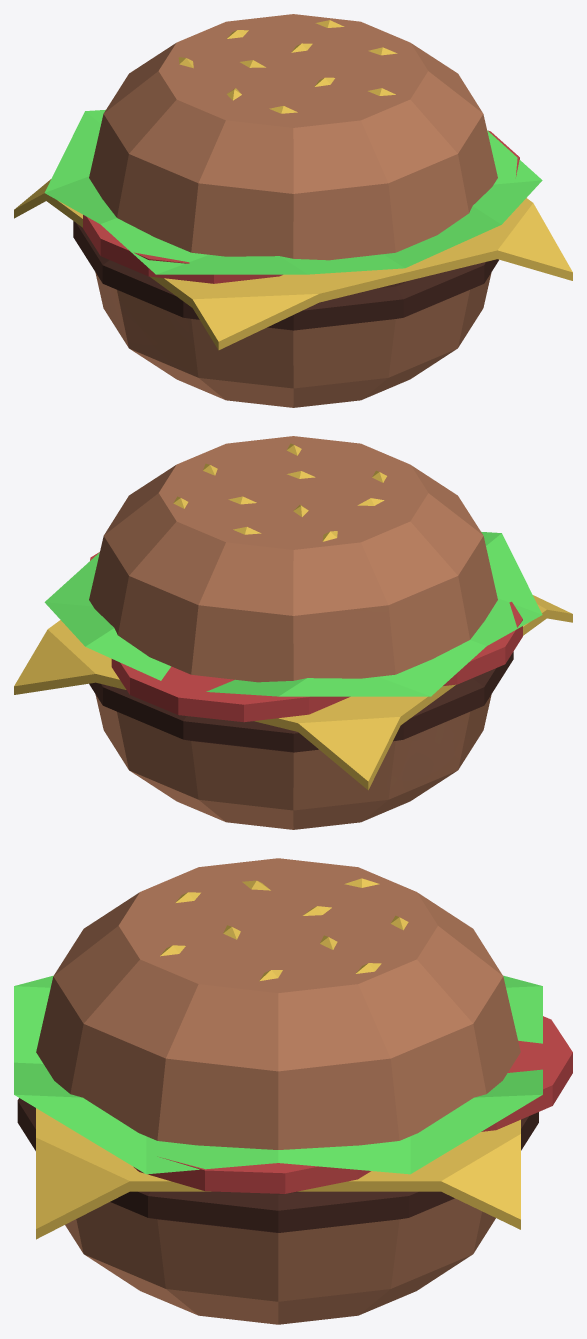
The model's file is Burger.fbx.
The picture shows the model from 3 angles, top to bottom: view 1: azimuth 30°, elevation 25°; view 2: azimuth 150°, elevation 25°; view 3: azimuth 270°, elevation 25°; orthographic projection. The views are drawn at different scales.
Visible parts, largest first — view 1: Burger; view 2: Burger; view 3: Burger.
Boxes of the visible parts, <box> form: Burger: <box>14,14,572,407</box>; Burger: <box>14,436,572,829</box>; Burger: <box>14,858,572,1324</box>.
Size of the model in its own units: 21.32 by 14.42 by 21.65.
